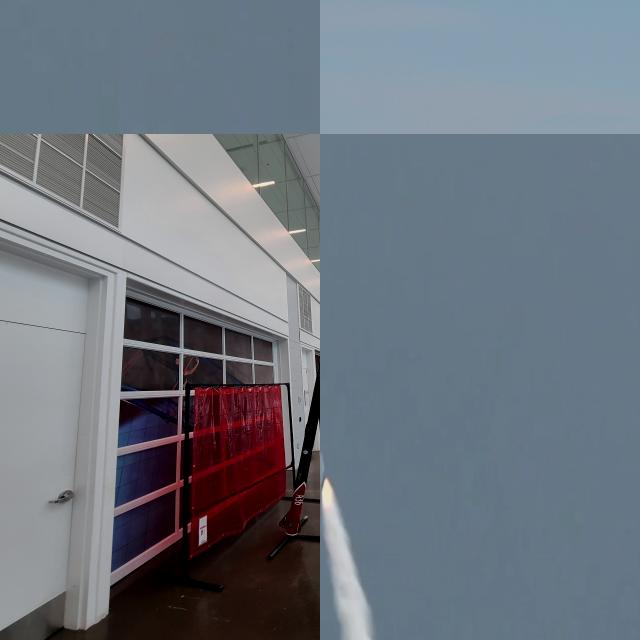Rocket: (279, 357, 320, 534), (320, 451, 328, 494)
